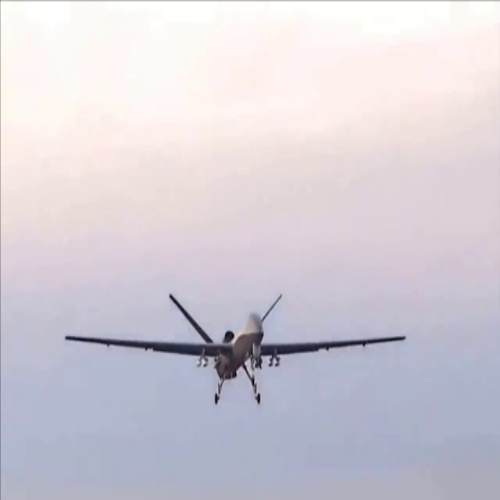uav: (62, 289, 407, 404)
